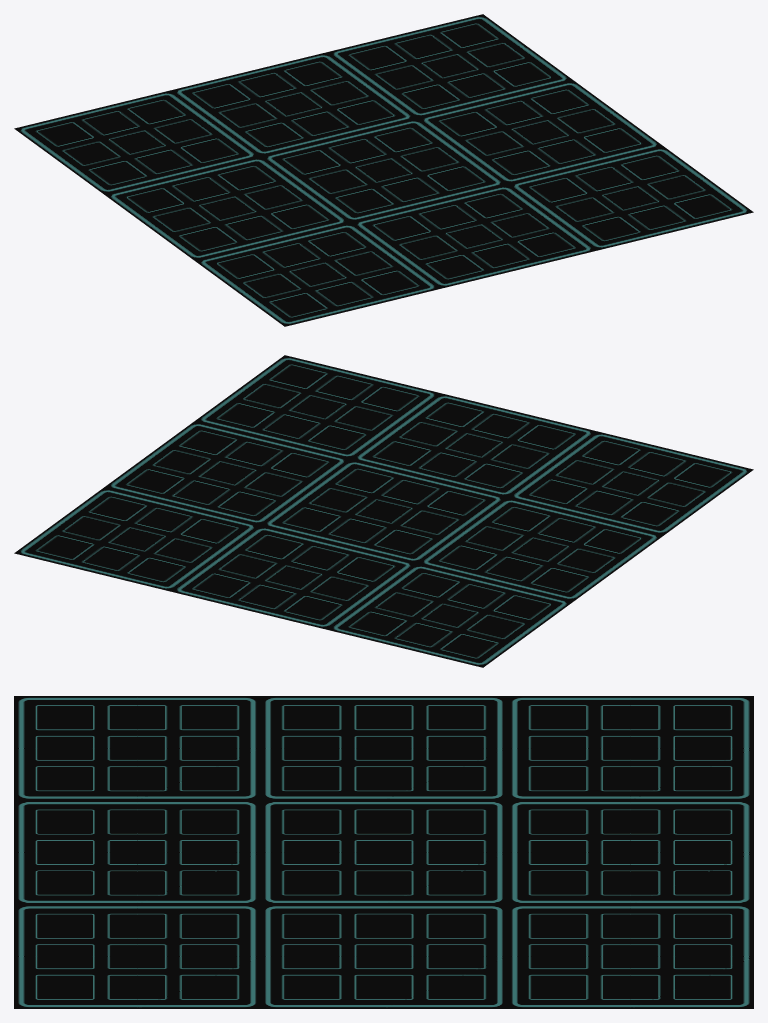
Rendered from tron_floor.dae.
3 renders of one model, top to bottom at view 1: azimuth 30°, elevation 25°; view 2: azimuth 150°, elevation 25°; view 3: azimuth 270°, elevation 25°, orthographic. The views are drawn at different scales.
Parts seen in each view (by area): view 1: ref_tron_gridfloor_smd; view 2: ref_tron_gridfloor_smd; view 3: ref_tron_gridfloor_smd.
Part boxes in pixels (x1,y1,x2,y2): ref_tron_gridfloor_smd: [14, 14, 753, 326]; ref_tron_gridfloor_smd: [14, 355, 753, 667]; ref_tron_gridfloor_smd: [14, 696, 753, 1008].
Size of the model in its own units: 61.38 by 61.38 by 2.19e-05.
1 material, 1 textured.
